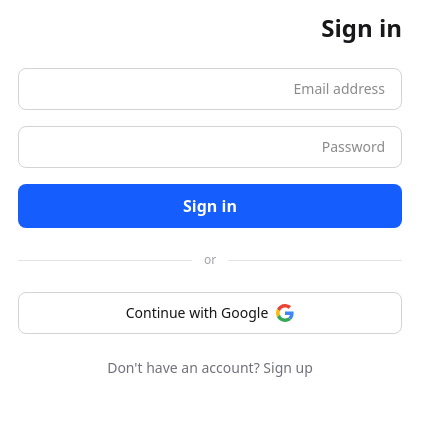
it: AuthForm › shows error message when signInAction returns an error
The width and height of the screenshot is (421, 430).
Type "bad@example.com" into the field labelled "Email address".
click(210, 89); type("bad@example.com")  # box [18, 68, 402, 110]
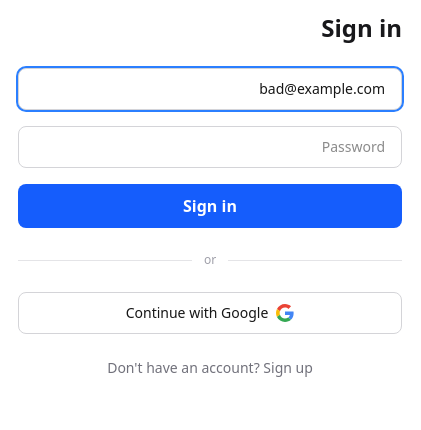
Type "wrongpass" into the password field labelled "Password".
click(210, 147); type("wrongpass")  # box [18, 126, 402, 168]
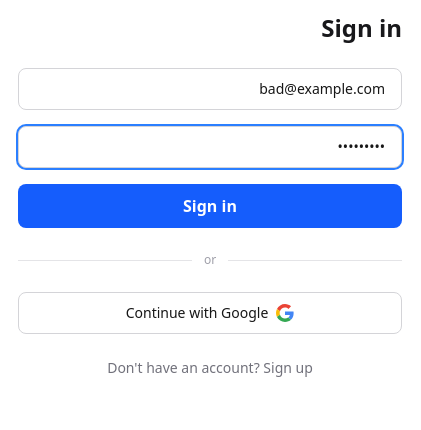
Click the button "Sign in".
click(210, 206)  # box [18, 184, 402, 228]
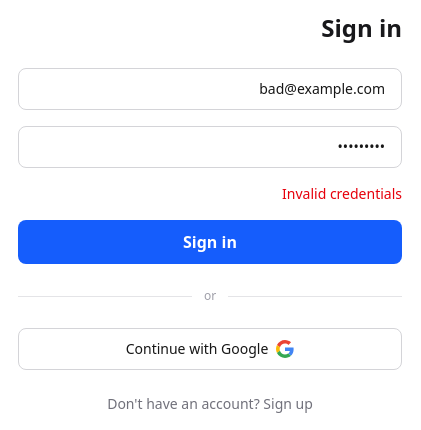
Now the message reads "Invalid credentials", box [282, 184, 402, 203]
